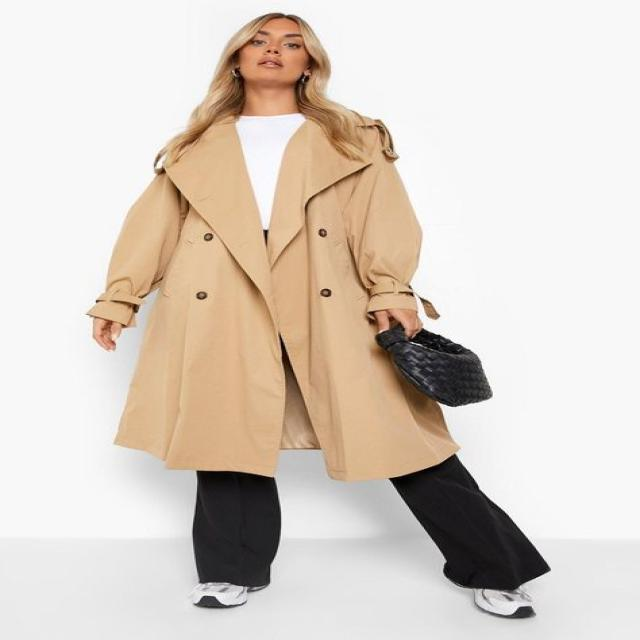coat: (81, 108, 466, 484)
short sleeve shirt: (225, 109, 310, 235)
trousers: (191, 452, 556, 591)
